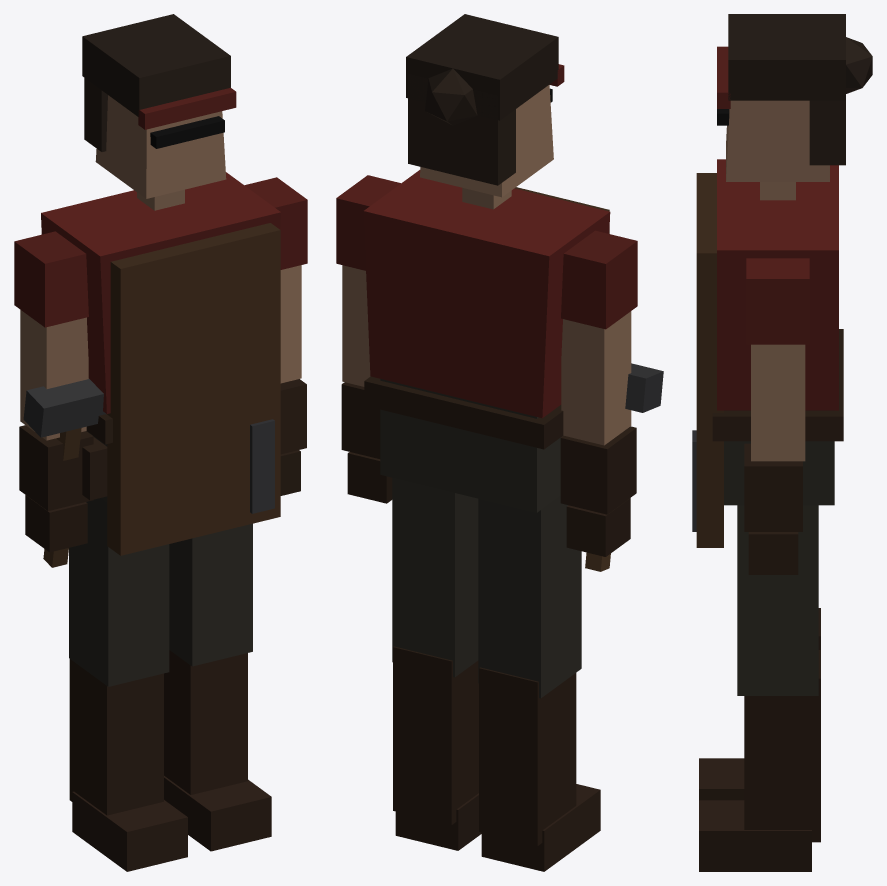
Rendered from mara.glb.
The picture shows the model from 3 angles, left to right: view 1: azimuth 30°, elevation 25°; view 2: azimuth 150°, elevation 25°; view 3: azimuth 270°, elevation 25°; orthographic projection. The views are drawn at different scales.
Parts seen in each view (by area): view 1: Torso, Leg_R, Leg_L, Head, Arm_R, Arm_L, Weapon; view 2: Torso, Leg_R, Leg_L, Head, Arm_R, Arm_L, Weapon; view 3: Torso, Leg_L, Head, Arm_L, Leg_R.
Boxes of the visible parts, x1,y1,x2,y2 form: Torso: (41, 172, 280, 555); Leg_R: (69, 498, 187, 871); Leg_L: (164, 523, 271, 851); Head: (82, 14, 236, 210); Arm_R: (14, 231, 93, 552); Arm_L: (244, 177, 307, 495); Weapon: (23, 378, 105, 567); Torso: (363, 170, 610, 512); Leg_R: (478, 496, 600, 871); Leg_L: (392, 477, 481, 850); Head: (406, 14, 564, 209); Arm_R: (560, 230, 637, 556); Arm_L: (336, 175, 400, 503); Weapon: (585, 363, 663, 571); Torso: (692, 159, 843, 547); Leg_L: (699, 505, 820, 871); Head: (717, 14, 872, 200); Arm_L: (744, 258, 809, 574); Leg_R: (699, 608, 820, 800).
Bounding box in the file's own units: 0.725 × 1.95 × 0.3995.
